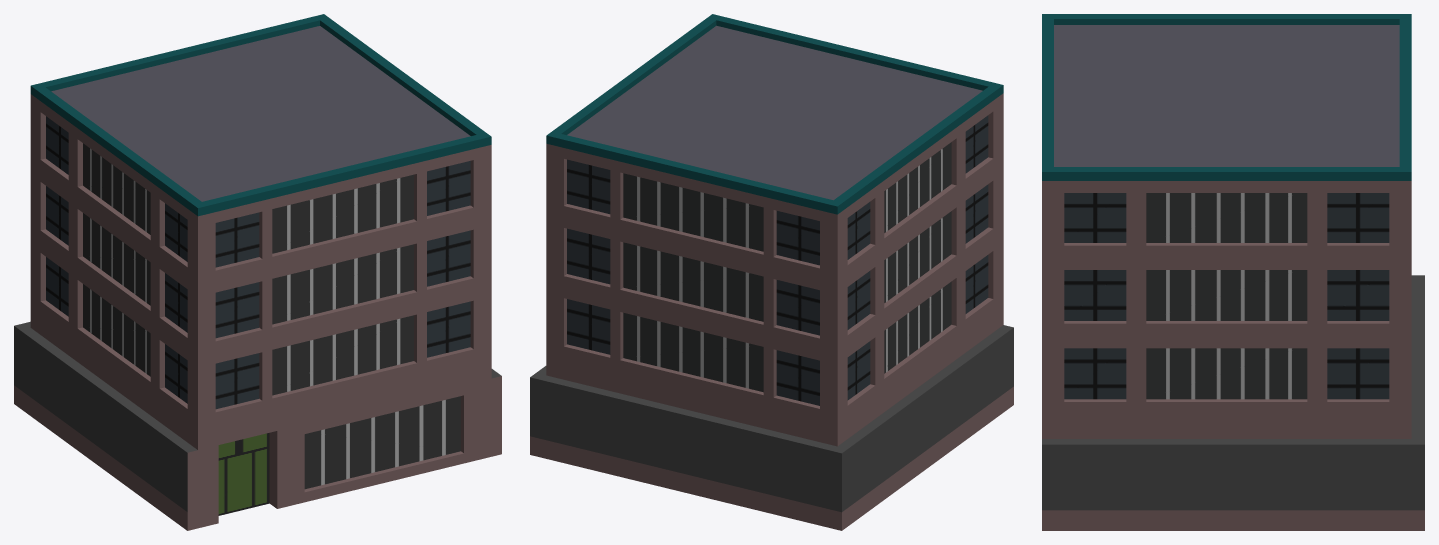
Rendered from building16a.FBX.
3 renders of one model, left to right at view 1: azimuth 30°, elevation 25°; view 2: azimuth 150°, elevation 25°; view 3: azimuth 270°, elevation 25°, orthographic. The views are drawn at different scales.
Parts seen in each view (by area): view 1: building16a; view 2: building16a; view 3: building16a.
Part boxes in pixels (x1=…): building16a: x1=14, y1=14, x2=501, y2=530; building16a: x1=530, y1=14, x2=1013, y2=530; building16a: x1=1042, y1=14, x2=1424, y2=530.
Size of the model in its own units: 21.4 by 20.82 by 20.45.
